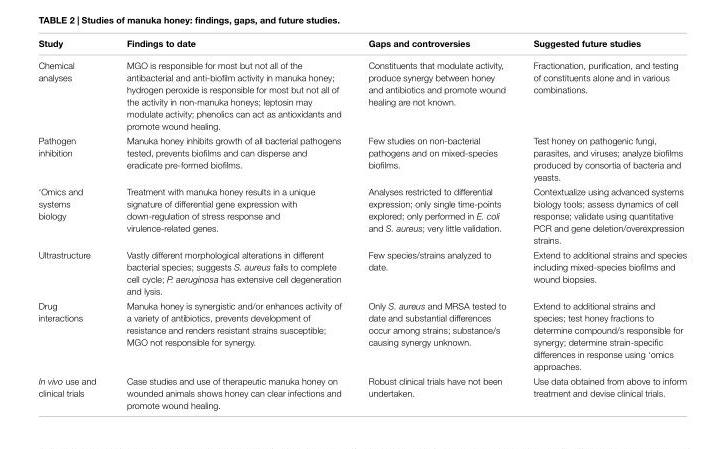table: (37, 37, 686, 409)
table column: (110, 37, 354, 409), (519, 37, 686, 409), (354, 37, 519, 409), (37, 37, 110, 409)
table column header: (37, 37, 686, 53)
table row: (37, 53, 686, 132), (37, 297, 686, 373), (37, 183, 686, 246), (37, 132, 686, 183), (37, 246, 686, 297), (37, 373, 686, 409), (37, 37, 686, 53)
